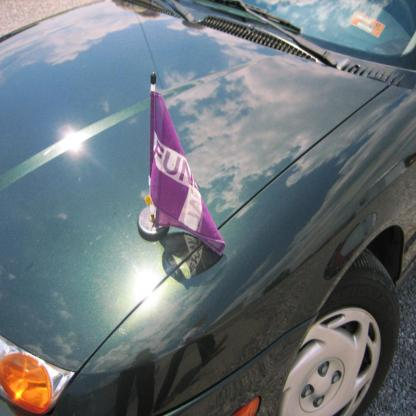Car: (2, 1, 416, 416)
